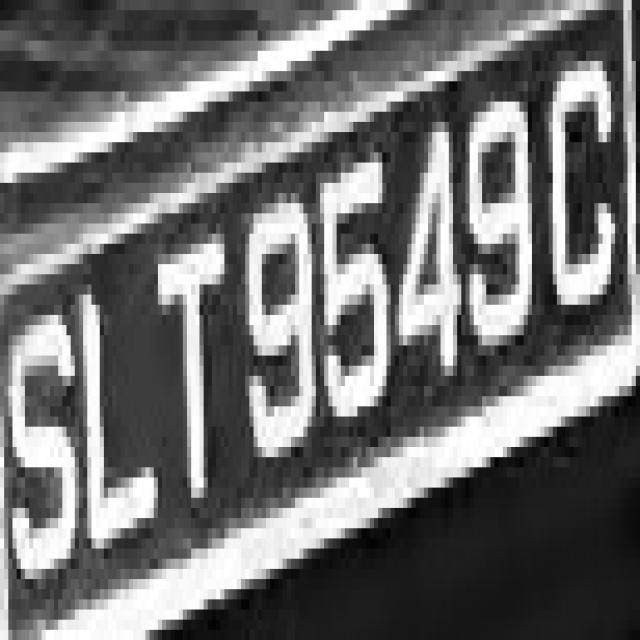4: (390, 112, 470, 406)
5: (312, 132, 391, 437)
9: (462, 81, 540, 396), (241, 193, 312, 477)
C: (544, 20, 620, 376)
L: (75, 244, 166, 589)
S: (0, 284, 87, 619)
T: (141, 204, 237, 538)
